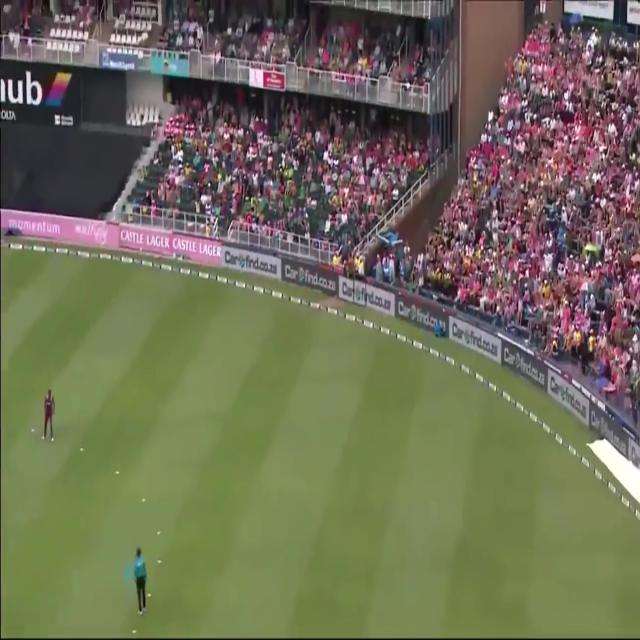Fielder: (38, 386, 56, 442)
Umpire: (133, 545, 148, 618)
